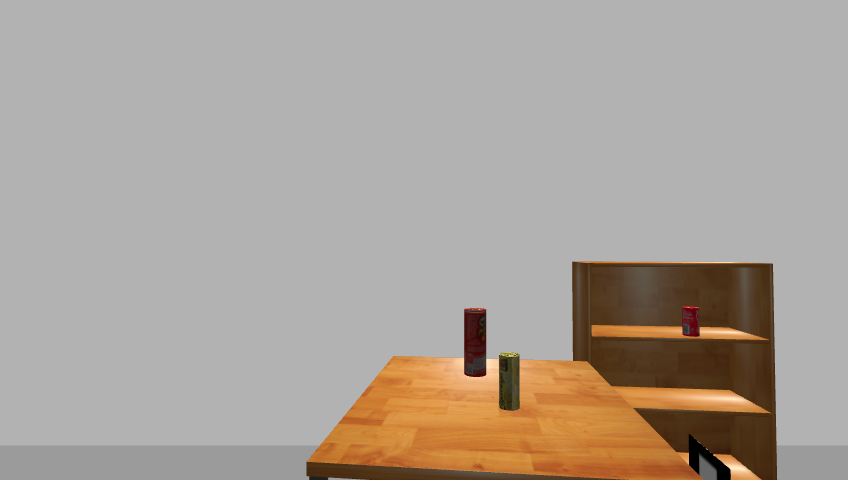aruco marker: (684, 434, 733, 480)
biscuits pack: (498, 353, 522, 412)
bookshelf: (567, 259, 783, 480)
coke can: (680, 306, 701, 337)
dinner table: (300, 355, 710, 480)
pringles can: (460, 307, 489, 379)
